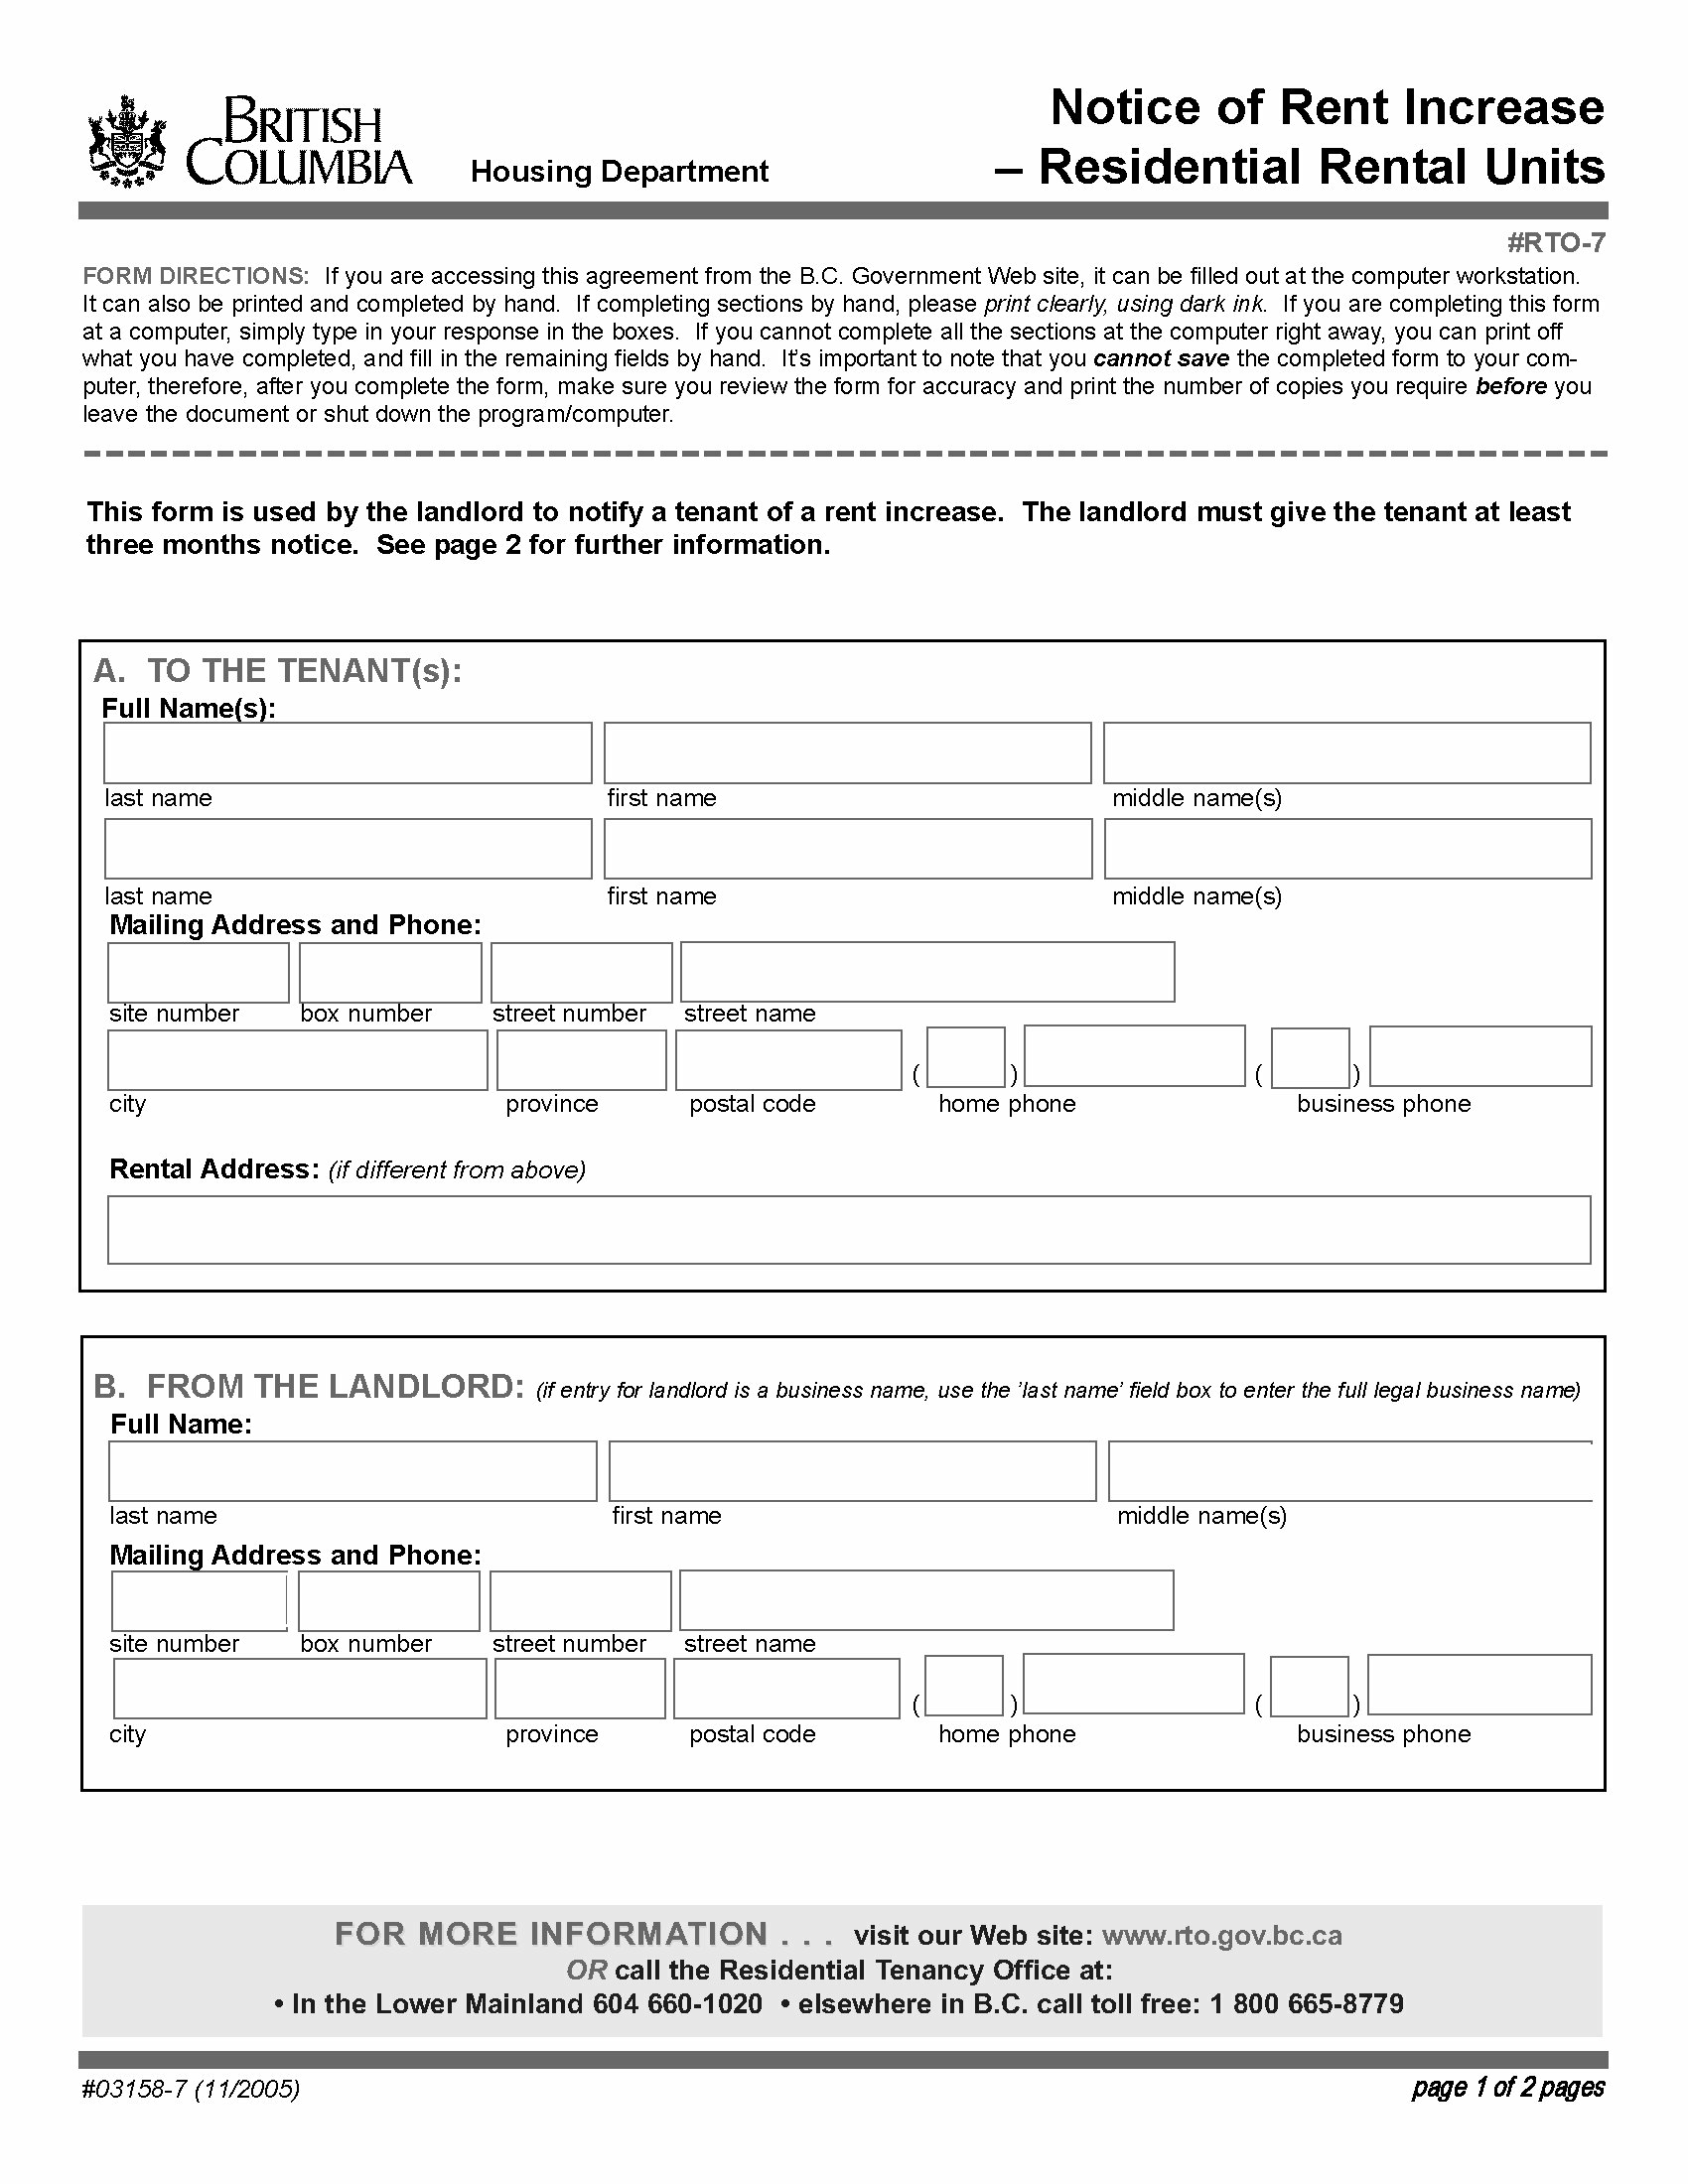textbox: (101, 1188, 1594, 1271), (676, 1560, 1181, 1636), (594, 812, 1098, 888), (598, 714, 1098, 791), (98, 814, 598, 890), (1098, 716, 1596, 791), (605, 1432, 1101, 1507), (98, 718, 601, 791), (677, 936, 1181, 1007), (1105, 1434, 1596, 1507), (1099, 812, 1598, 883), (105, 1436, 601, 1507), (99, 1023, 491, 1099), (106, 1656, 491, 1721), (1362, 1019, 1596, 1096), (668, 1649, 906, 1723), (672, 1023, 908, 1096), (1020, 1021, 1250, 1094), (1362, 1650, 1598, 1720), (1020, 1649, 1252, 1718), (293, 1564, 489, 1634), (484, 1562, 676, 1634), (488, 1650, 668, 1725), (293, 938, 486, 1007), (491, 1023, 674, 1096), (484, 938, 681, 1005), (103, 940, 293, 1007), (108, 1567, 293, 1634), (1266, 1023, 1355, 1096), (1264, 1650, 1355, 1720), (922, 1023, 1009, 1092), (922, 1652, 1007, 1721)
